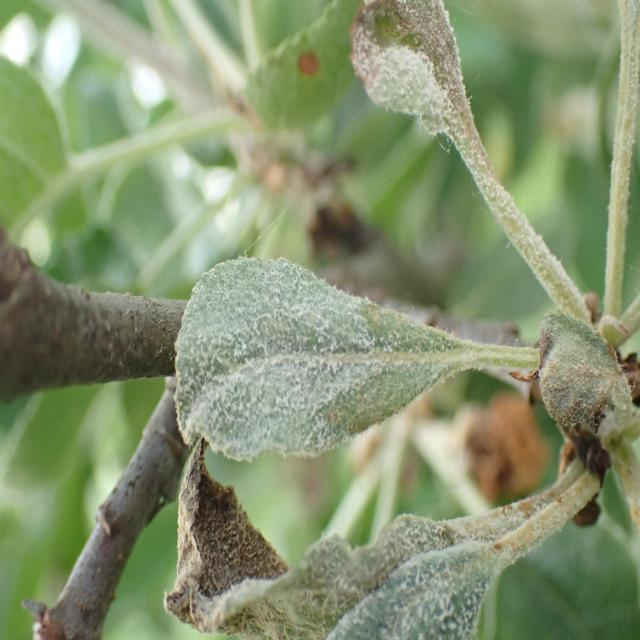Black Rot: (293, 37, 325, 85)
Powdery_mildew: (177, 226, 468, 464), (164, 457, 514, 640), (345, 0, 517, 223)
